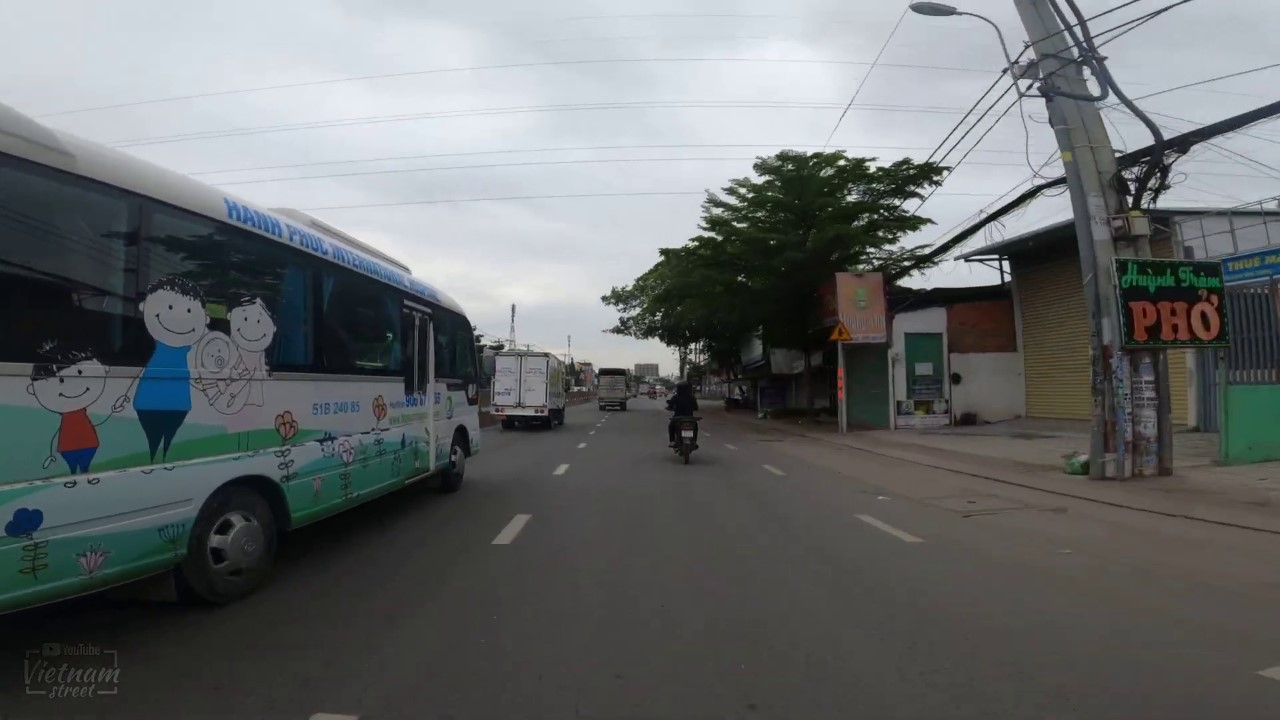giao_khong_uu_tien_phai: (828, 320, 853, 341)
